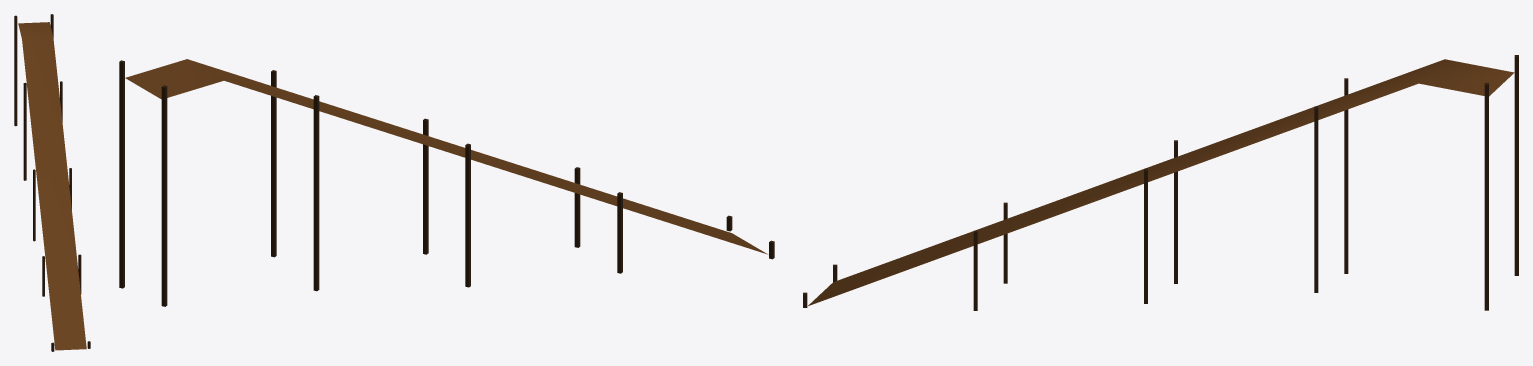
Rendered from published-amberwood-amber-market-canopy-stair.glb.
3 views of the same model, side by side, from view 1: azimuth 30°, elevation 25°; view 2: azimuth 150°, elevation 25°; view 3: azimuth 270°, elevation 25° (orthographic). The views are drawn at different scales.
Visible parts, largest first — view 1: Walk_Amber_MarketCanopyStair, Amber_MarketCanopyStair_Posts; view 2: Amber_MarketCanopyStair_Posts, Walk_Amber_MarketCanopyStair; view 3: Walk_Amber_MarketCanopyStair, Amber_MarketCanopyStair_Posts.
Part boxes in pixels (x1,y1,x2,y2): Walk_Amber_MarketCanopyStair: [18, 22, 86, 350]; Amber_MarketCanopyStair_Posts: [14, 14, 90, 351]; Amber_MarketCanopyStair_Posts: [119, 60, 774, 306]; Walk_Amber_MarketCanopyStair: [125, 59, 768, 254]; Walk_Amber_MarketCanopyStair: [808, 59, 1514, 305]; Amber_MarketCanopyStair_Posts: [803, 55, 1518, 310].
Bounding box in the file's own units: 19.74 × 20.49 × 37.33.
